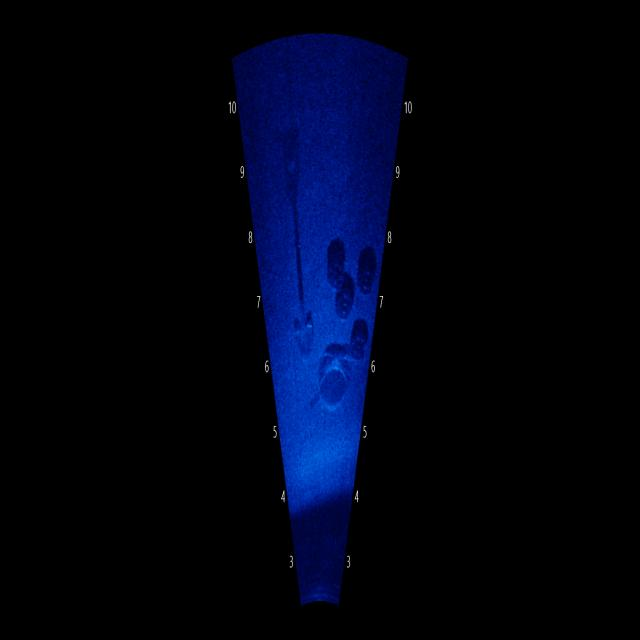circle: (314, 352, 354, 419)
